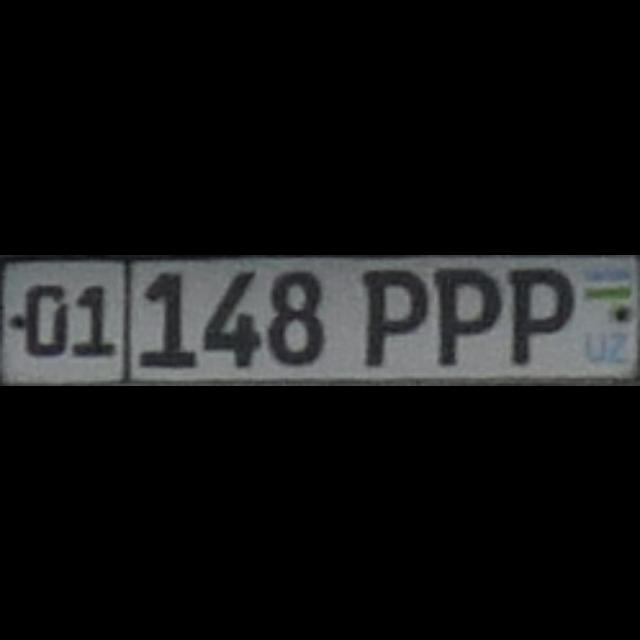0: (20, 280, 64, 352)
1: (136, 269, 192, 367), (69, 280, 113, 354)
4: (200, 267, 260, 365)
8: (264, 267, 322, 365)
P: (432, 262, 498, 360), (360, 267, 424, 365), (506, 262, 570, 360)
